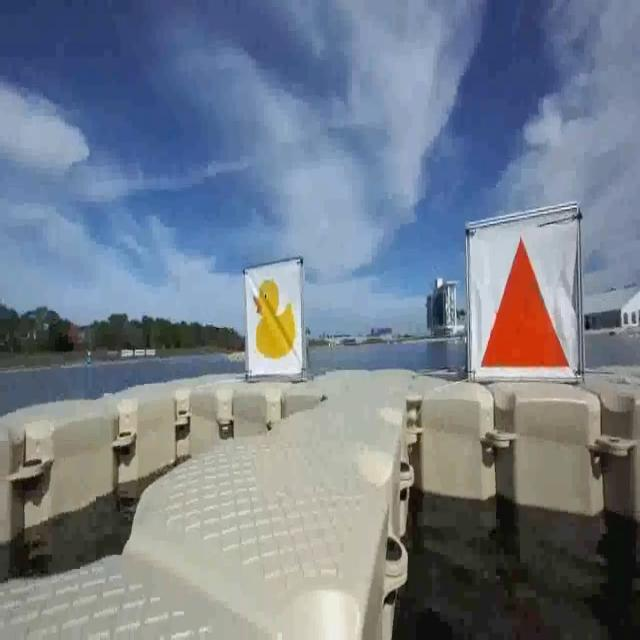red-dot: (476, 223, 574, 390)
yellow-duck: (244, 263, 301, 385)
